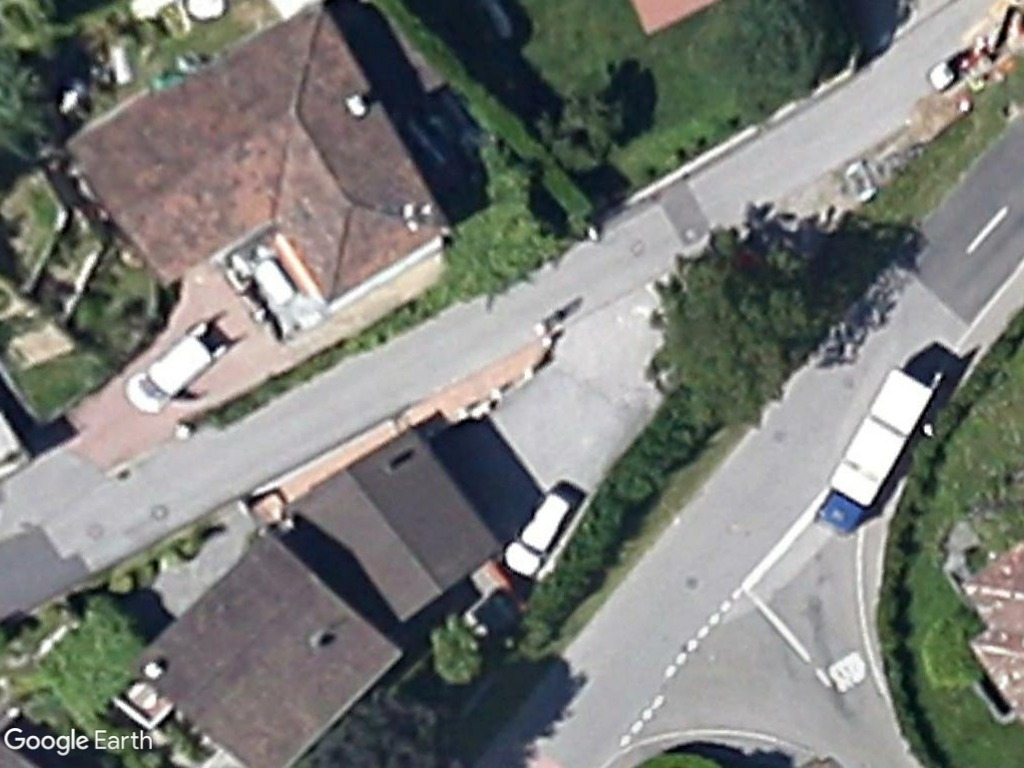car: (118, 331, 216, 417), (498, 482, 583, 579)
truck: (815, 357, 938, 537)
